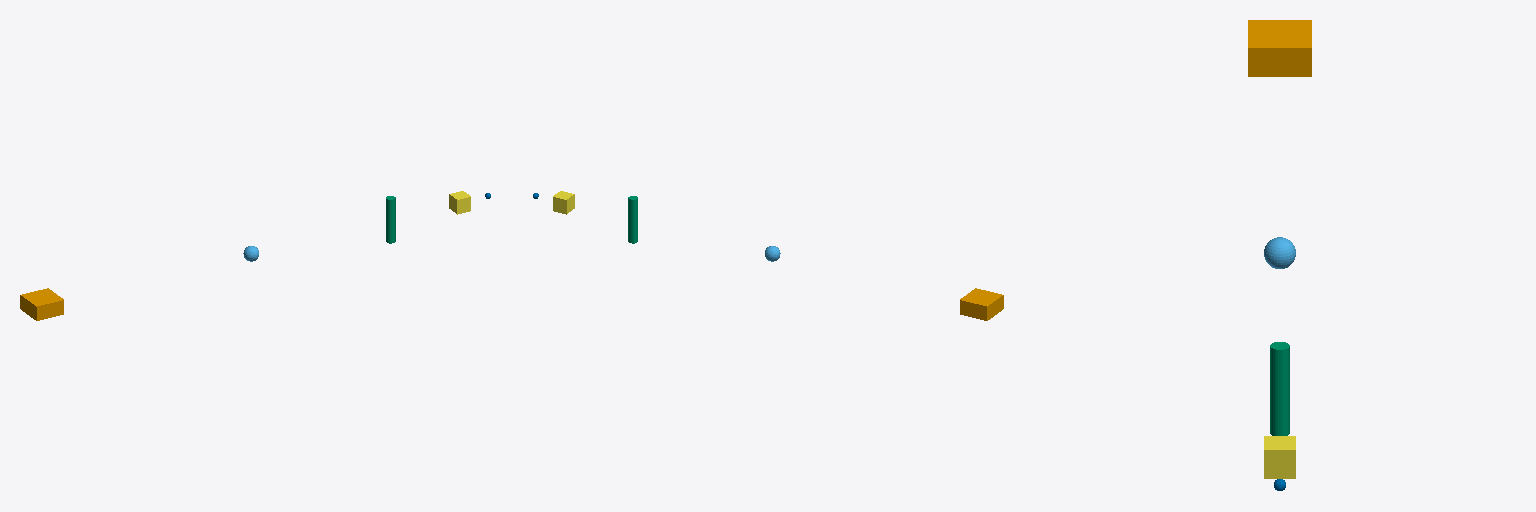
The robot description file, URDF, robot "synthetic_hand":
<robot name="synthetic_hand">
  <link name="palm">
    <visual><origin xyz="0 0 0" rpy="0 0 0"/><geometry><box size="0.2 0.2 0.1"/></geometry></visual>
    <collision><origin xyz="0 0 0" rpy="0 0 0"/><geometry><box size="0.2 0.2 0.1"/></geometry></collision>
  </link>
  <link name="finger1">
    <visual><origin xyz="0.5 0 0" rpy="0 0 0"/><geometry><sphere radius="0.05"/></geometry></visual>
    <collision><origin xyz="0.5 0 0" rpy="0 0 0"/><geometry><sphere radius="0.04"/></geometry></collision>
  </link>
  <link name="finger2">
    <visual><origin xyz="0.5 0 0" rpy="0 0 0"/><geometry><cylinder radius="0.03" length="0.3"/></geometry></visual>
    <collision><origin xyz="0.5 0 0" rpy="0 0 0"/><geometry><box size="0.1 0.1 0.1"/></geometry></collision>
  </link>
  <link name="slider">
    <visual><geometry><box size="0.1 0.1 0.1"/></geometry></visual>
    <collision><geometry><box size="0.1 0.1 0.1"/></geometry></collision>
  </link>
  <link name="synthetic_tip">
    <visual><geometry><sphere radius="0.02"/></geometry></visual>
  </link>
  <joint name="joint_rev_z" type="revolute">
    <parent link="palm"/><child link="finger1"/><origin xyz="1 0 0" rpy="0 0 0"/>
    <axis xyz="0 0 2"/><limit lower="-1.5707963267948966" upper="1.5707963267948966" effort="1" velocity="2"/>
  </joint>
  <joint name="joint_rev_y" type="revolute">
    <parent link="finger1"/><child link="finger2"/><origin xyz="1 0 0" rpy="0 0 0"/>
    <axis xyz="0 1 0"/><limit lower="-1" upper="1" effort="1" velocity="2"/>
  </joint>
  <joint name="joint_slide" type="prismatic">
    <parent link="finger2"/><child link="slider"/><origin xyz="1 0 0" rpy="0 0 0"/>
    <axis xyz="1 0 0"/><limit lower="0" upper="0.5" effort="1" velocity="1"/>
  </joint>
  <joint name="joint_tip" type="fixed">
    <parent link="slider"/><child link="synthetic_tip"/><origin xyz="0.2 0 0" rpy="0 0 0"/>
  </joint>
</robot>

--- Render facts (derived) ---
The picture shows the robot from 3 angles, left to right: view 1: azimuth 30°, elevation 25°; view 2: azimuth 150°, elevation 25°; view 3: azimuth 270°, elevation 25°; orthographic projection.
Robot: synthetic_hand — 5 links, 4 joints (2 revolute, 1 prismatic, 1 fixed); root link palm; default pose: all joints at 0.
Visible links, largest first — view 1: palm; view 2: palm; view 3: palm, finger2, slider, finger1.
Link boxes in pixels (x1=…): palm: x1=20, y1=288, x2=63, y2=320; palm: x1=960, y1=288, x2=1003, y2=320; palm: x1=1248, y1=20, x2=1311, y2=76; finger2: x1=1270, y1=342, x2=1289, y2=435; slider: x1=1264, y1=436, x2=1295, y2=478; finger1: x1=1264, y1=237, x2=1295, y2=268.
Bounding box of the posed robot: 3.32 × 0.2 × 0.3 m (x, y, z).
Geometry: primitives only (box / cylinder / sphere), no mesh files.
